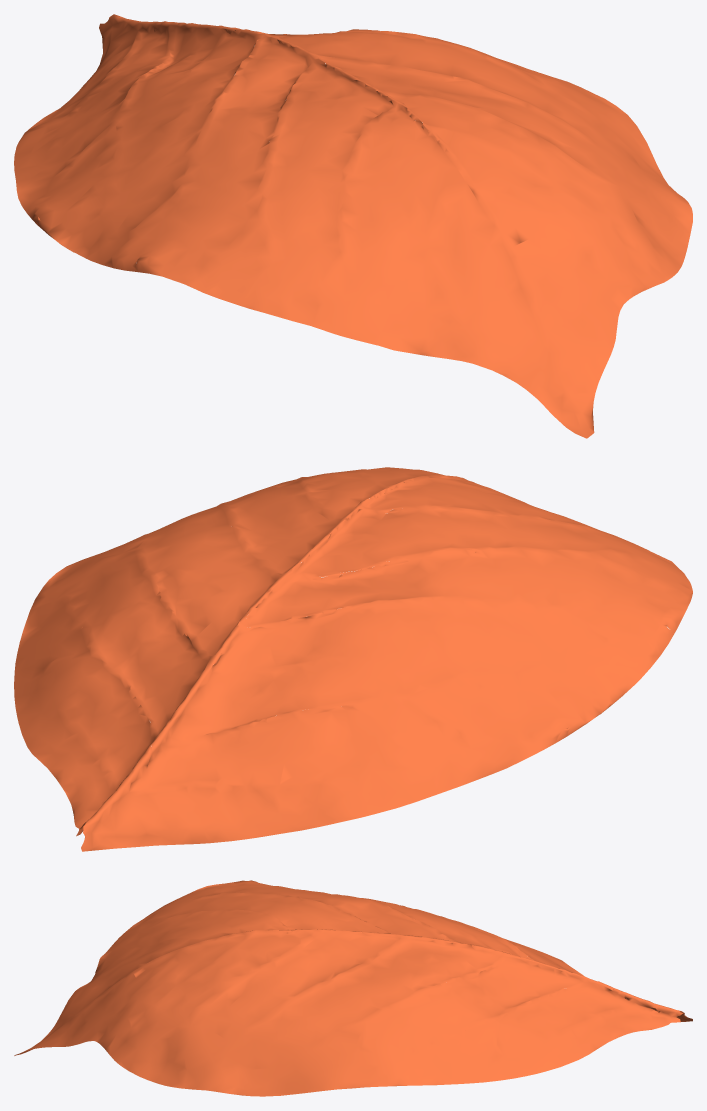
The model's file is new_autumn_leaf1.glb.
3 views of the same model, one above another, from view 1: azimuth 30°, elevation 25°; view 2: azimuth 150°, elevation 25°; view 3: azimuth 270°, elevation 25° (orthographic). The views are drawn at different scales.
Parts seen in each view (by area): view 1: Object_2; view 2: Object_2; view 3: Object_2.
Part boxes in pixels (x1=…): Object_2: x1=14, y1=14, x2=692, y2=438; Object_2: x1=14, y1=467, x2=692, y2=851; Object_2: x1=14, y1=880, x2=692, y2=1096.
Bounding box in the file's own units: 1.73 × 0.5548 × 2.62.
